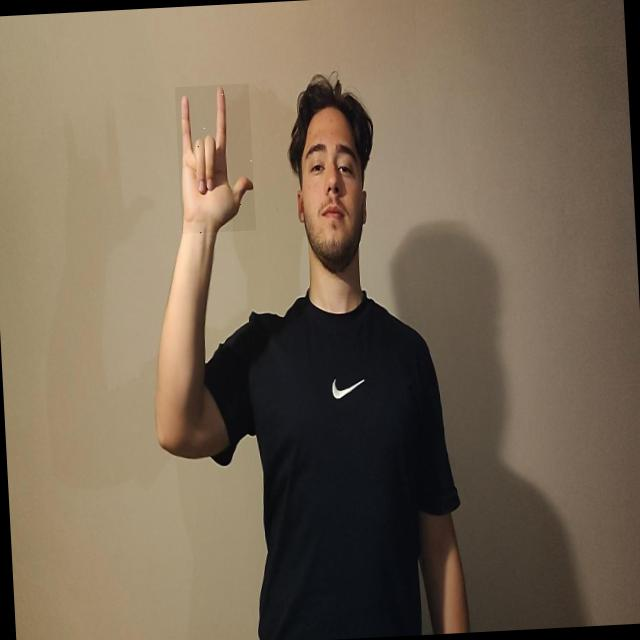iloveyou: (175, 84, 256, 234)
